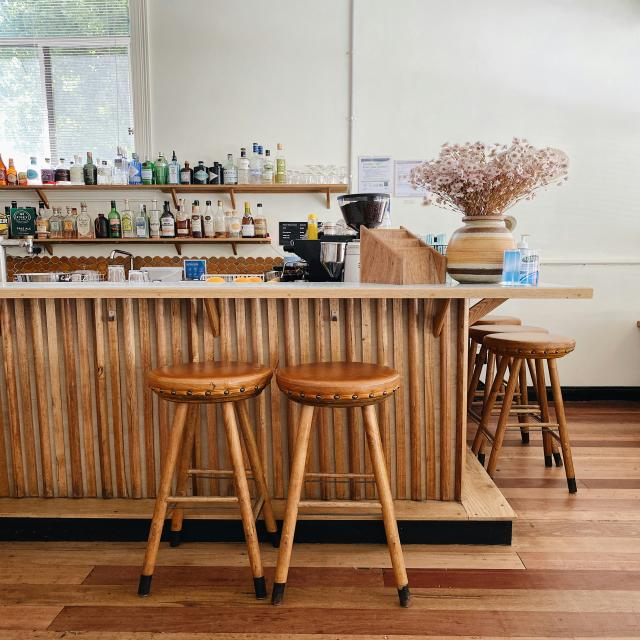floor: (0, 400, 640, 640), (467, 417, 479, 449), (484, 439, 493, 471), (547, 401, 557, 423), (488, 416, 500, 433), (507, 416, 519, 423), (528, 416, 540, 423), (528, 401, 539, 405), (529, 427, 542, 430), (506, 427, 520, 429), (554, 430, 559, 435), (550, 427, 558, 429), (509, 413, 517, 415), (476, 453, 478, 459), (491, 413, 500, 414), (536, 413, 540, 415)
